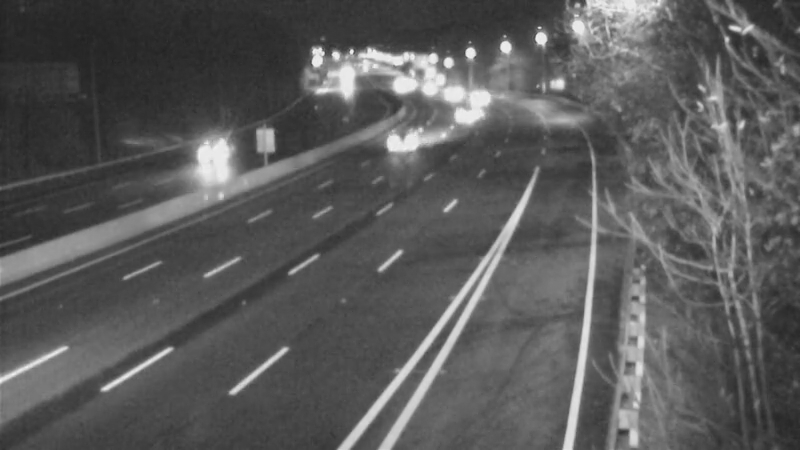vehicle: (170, 112, 250, 192), (403, 66, 453, 116), (424, 65, 474, 115), (450, 71, 500, 121), (439, 91, 489, 141), (387, 116, 437, 166)
